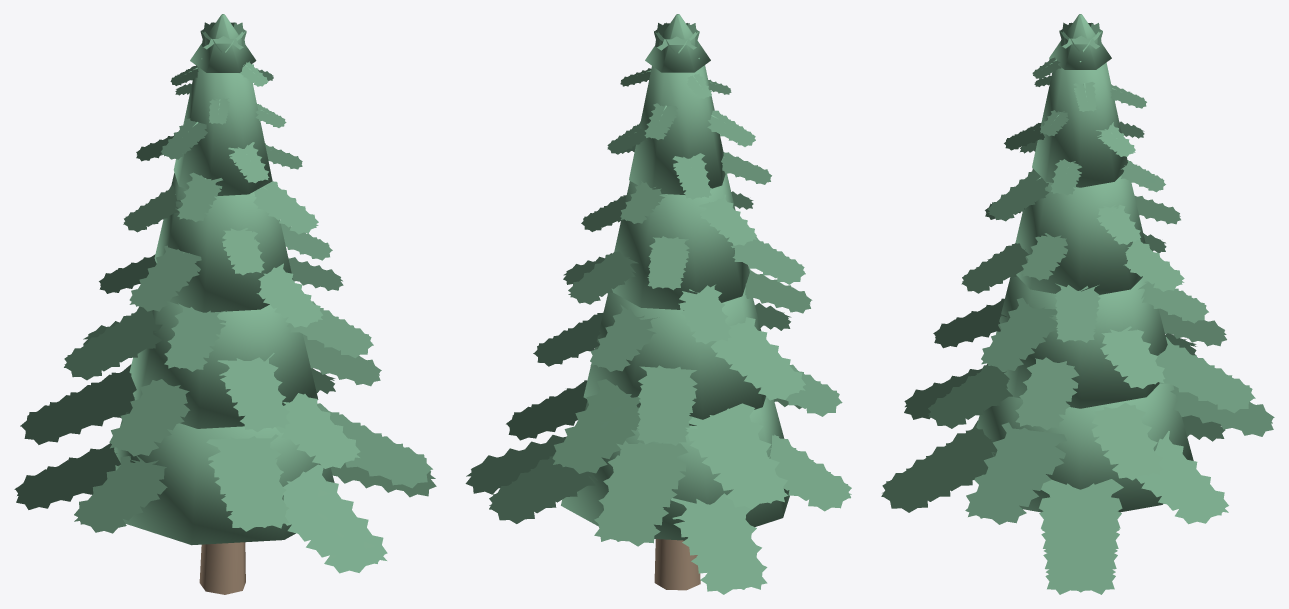
The model's file is tree_pine_C.glb.
3 renders of one model, left to right at view 1: azimuth 30°, elevation 25°; view 2: azimuth 150°, elevation 25°; view 3: azimuth 270°, elevation 25°, orthographic. The views are drawn at different scales.
Parts seen in each view (by area): view 1: tree_pine_C; view 2: tree_pine_C; view 3: tree_pine_C.
Part boxes in pixels (x1,y1,x2,y2): tree_pine_C: (14, 14, 436, 594); tree_pine_C: (465, 14, 851, 594); tree_pine_C: (881, 14, 1274, 594).
Size of the model in its own units: 1.13 by 1.68 by 1.11.
